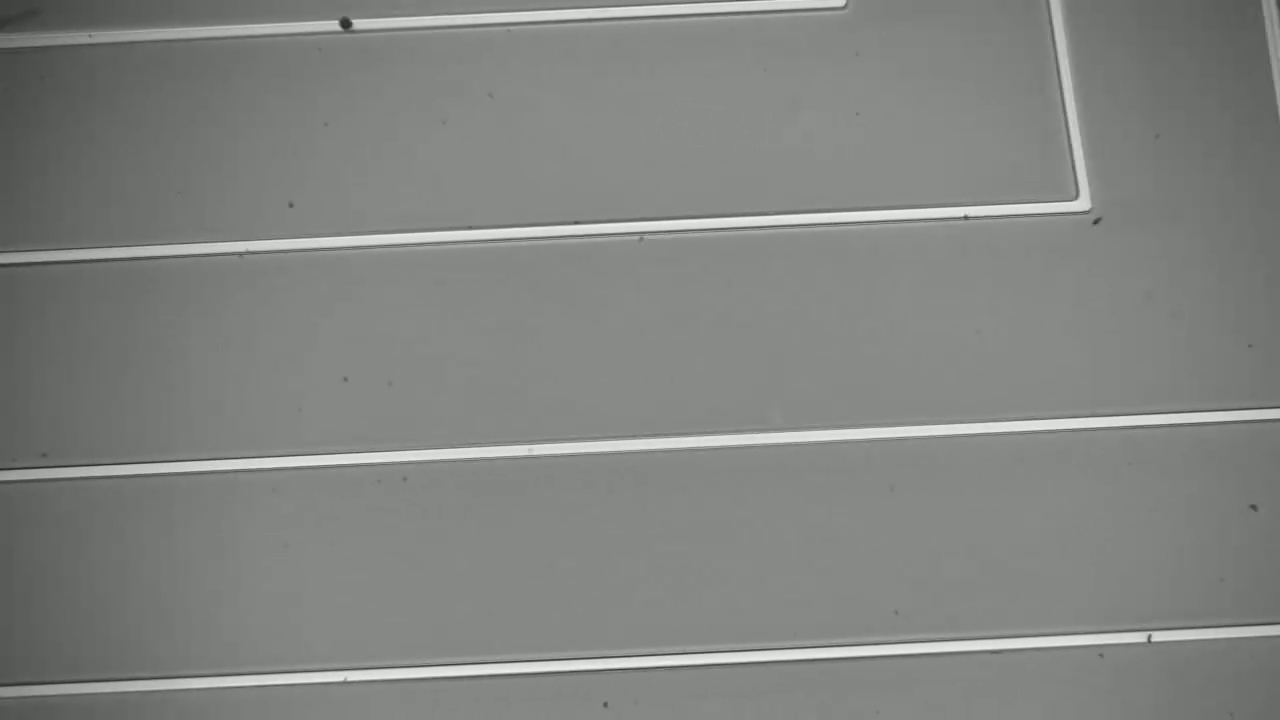stains_enbedded: (329, 7, 365, 45)
